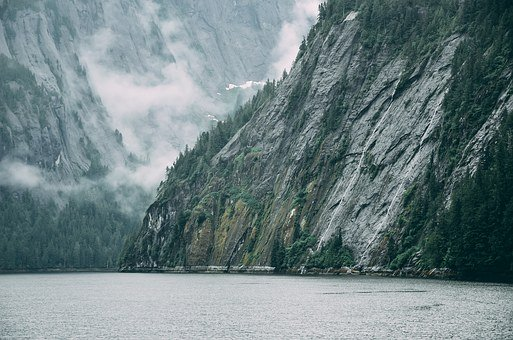lake: (9, 271, 502, 340)
mountain: (7, 6, 504, 280)
